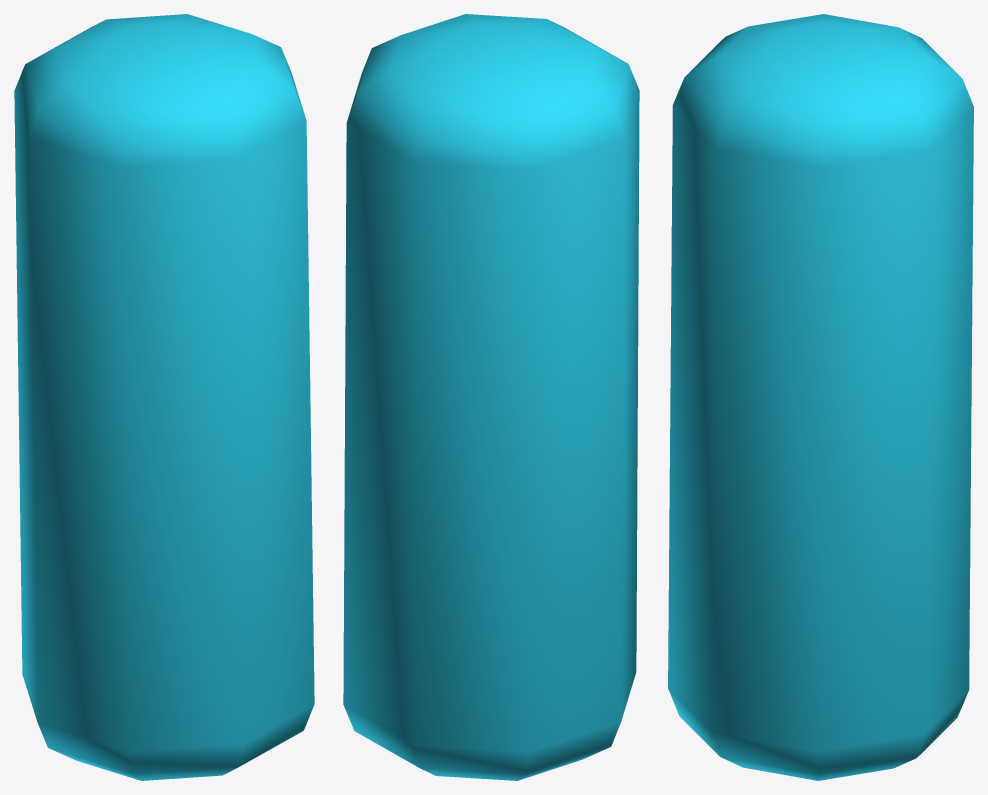
The model's file is Sprinkle.FBX.
The picture shows the model from 3 angles, left to right: view 1: azimuth 30°, elevation 25°; view 2: azimuth 150°, elevation 25°; view 3: azimuth 270°, elevation 25°; orthographic projection.
Parts seen in each view (by area): view 1: Torus005; view 2: Torus005; view 3: Torus005.
Boxes of the visible parts, left/top/right/bottom form: Torus005: left=14, top=14, right=314, bottom=780; Torus005: left=343, top=14, right=639, bottom=780; Torus005: left=668, top=14, right=973, bottom=780.
Size of the model in its own units: 14.01 by 35.5 by 13.94.
